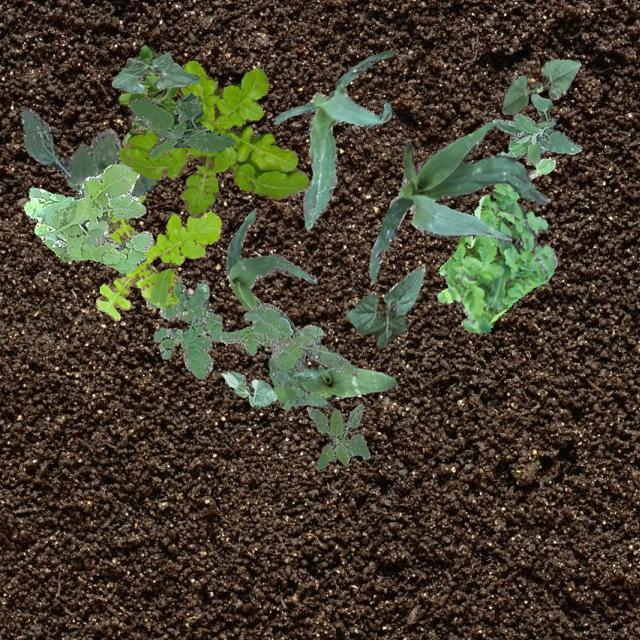crop: (368, 120, 548, 282), (273, 50, 392, 228), (225, 208, 316, 310), (346, 264, 424, 348), (500, 58, 580, 114), (110, 51, 198, 92), (290, 364, 394, 398), (220, 370, 276, 408), (526, 156, 554, 178)
weed: (115, 60, 308, 216), (436, 182, 556, 332), (94, 192, 220, 320), (22, 164, 152, 272), (106, 44, 178, 235), (145, 270, 269, 378), (242, 302, 358, 409), (20, 108, 156, 196), (128, 90, 234, 156), (492, 92, 580, 164), (306, 402, 368, 470)
